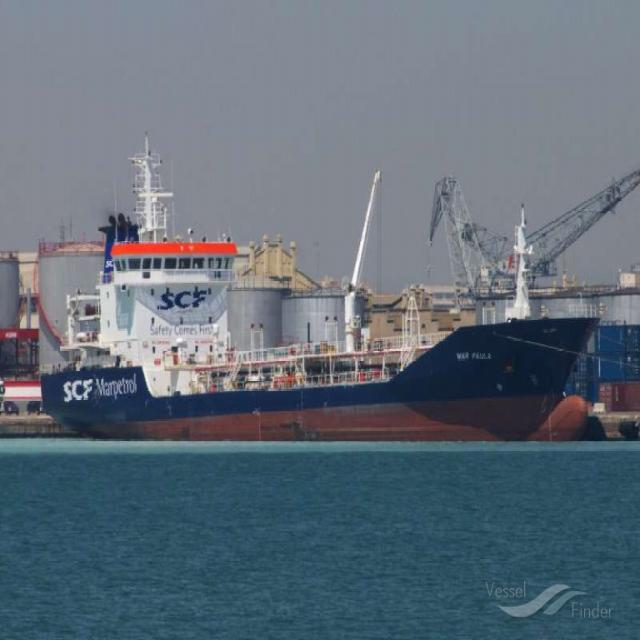OCR: (54, 371, 137, 407), (156, 283, 208, 316), (451, 340, 497, 360)
